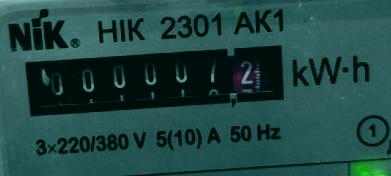0: (47, 68, 65, 96), (109, 61, 126, 90), (140, 59, 158, 86), (78, 65, 95, 93), (172, 56, 188, 85)
2: (237, 59, 254, 85)
7: (203, 54, 219, 85)
screen: (13, 38, 295, 121)
